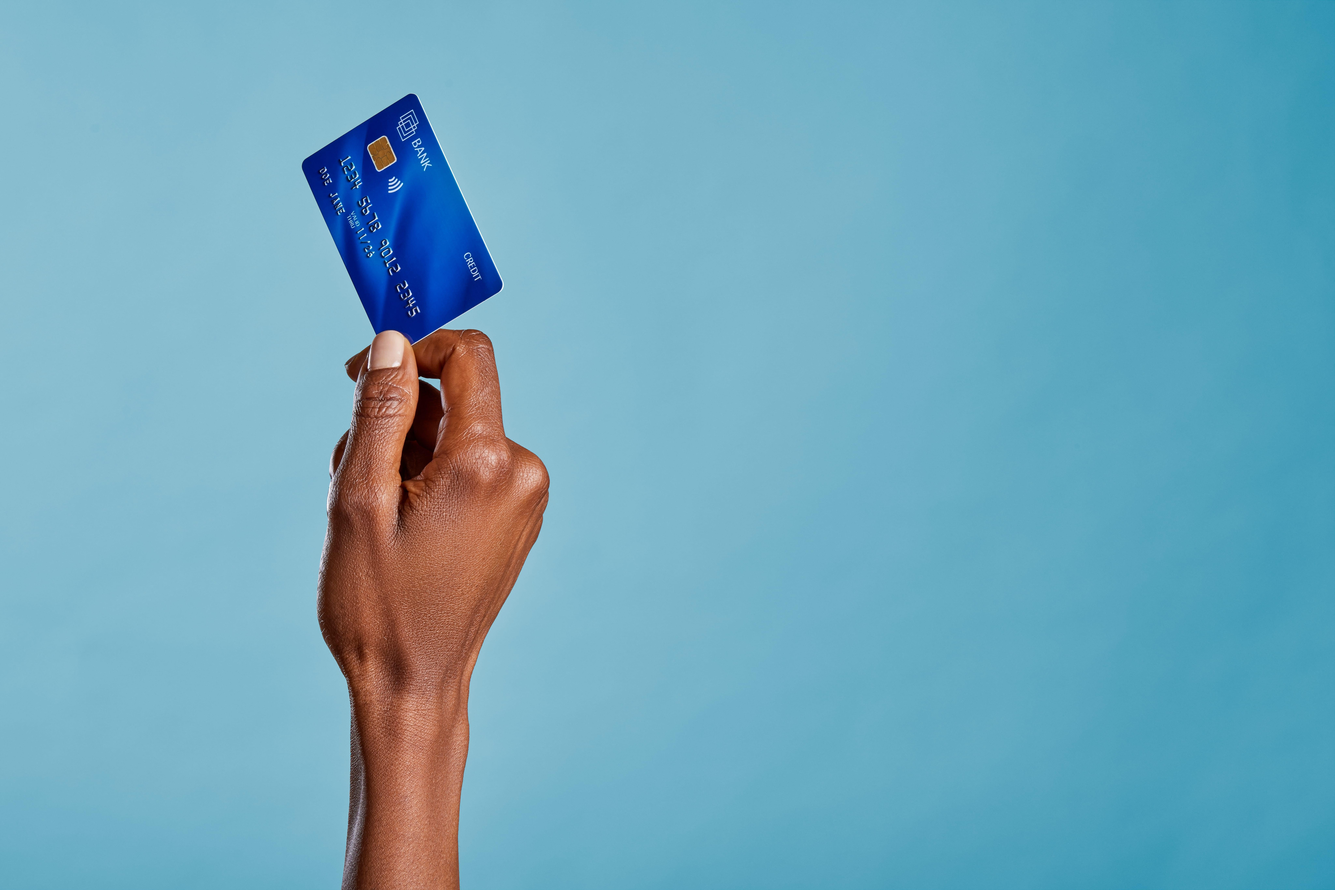Credit_card: (302, 94, 502, 343)
